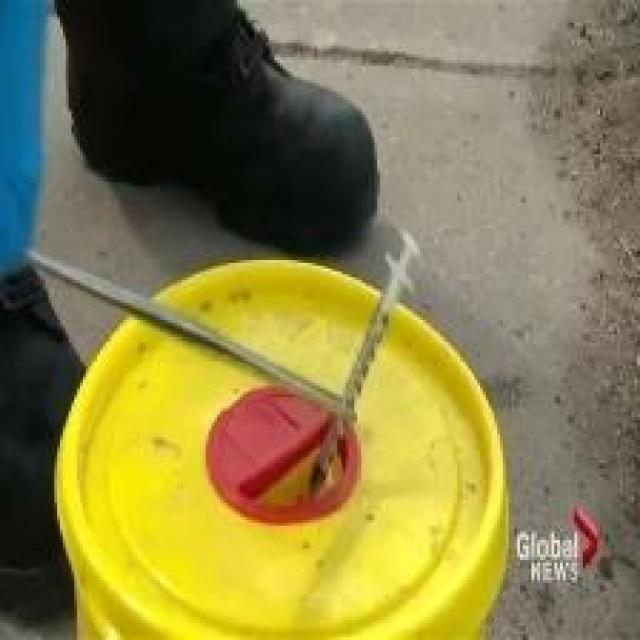syringe: (305, 222, 431, 560)
